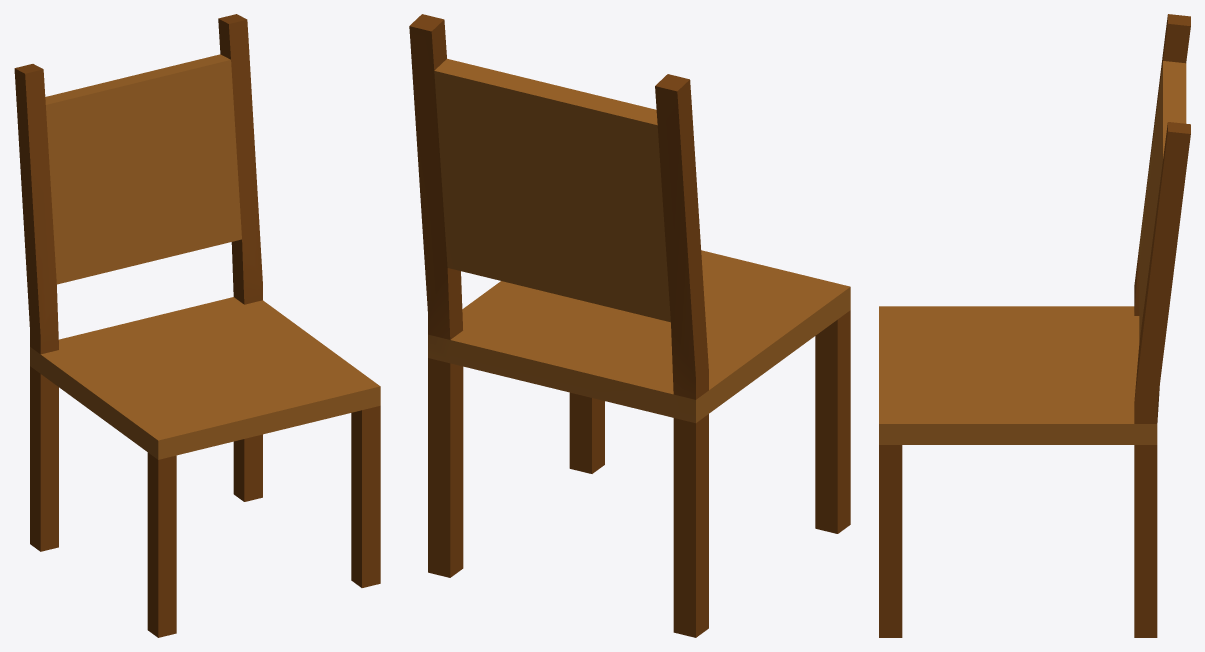
Rendered from Chair_01.fbx.
The picture shows the model from 3 angles, left to right: view 1: azimuth 30°, elevation 25°; view 2: azimuth 150°, elevation 25°; view 3: azimuth 270°, elevation 25°; orthographic projection. The views are drawn at different scales.
Parts seen in each view (by area): view 1: Chair; view 2: Chair; view 3: Chair.
Part boxes in pixels (box(x1,y1,x2,y2)): Chair: box(14, 14, 380, 637); Chair: box(409, 14, 850, 637); Chair: box(879, 14, 1190, 637).
Bounding box in the file's own units: 1.2 × 2.41 × 1.34.
